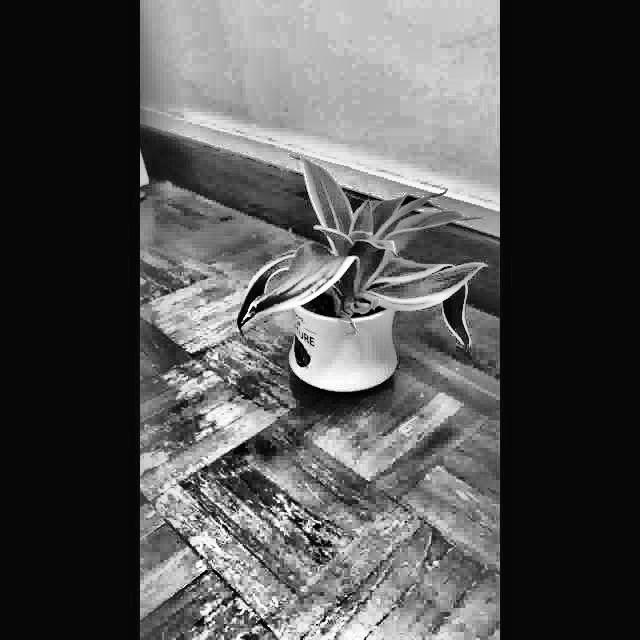plants: (233, 147, 488, 416)
